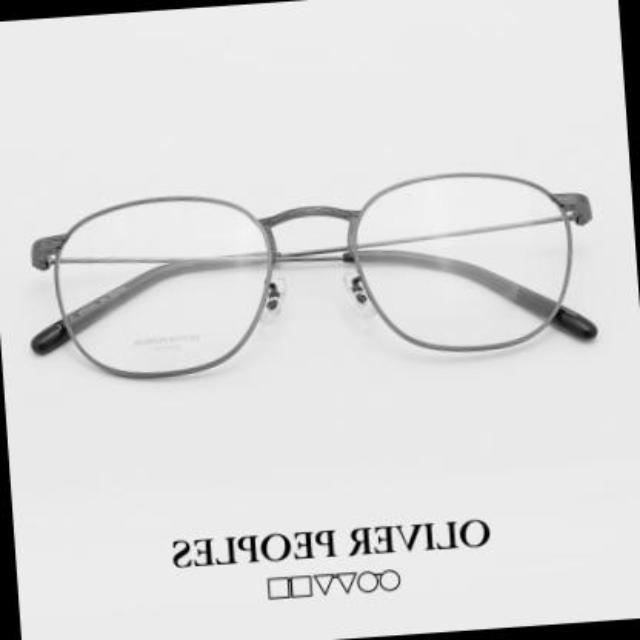glasses: (25, 172, 610, 382)
